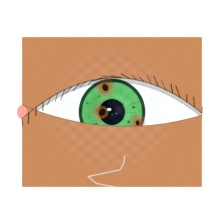foreign_body_visible: (125, 113, 150, 133)
